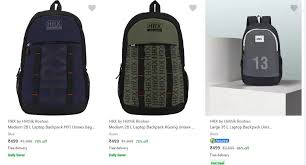backpack: (10, 2, 94, 124), (112, 0, 191, 120), (15, 0, 90, 115), (239, 13, 289, 98), (240, 14, 282, 85)
